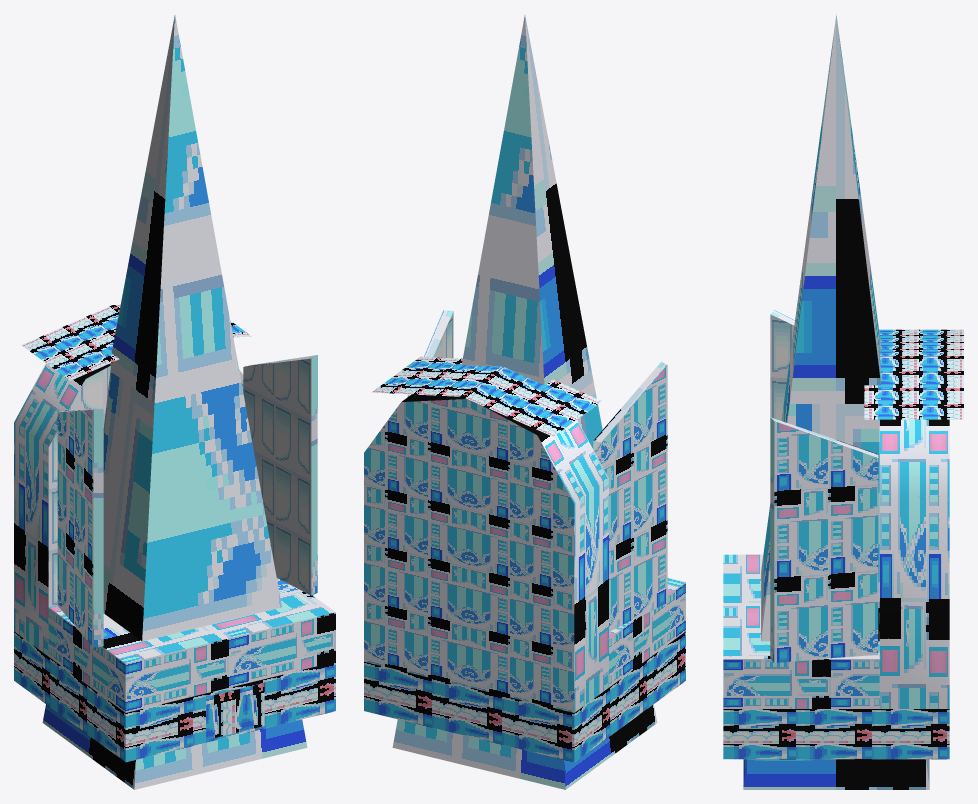
The model's file is 3860kg3_ser41.gltf.
3 views of the same model, side by side, from view 1: azimuth 30°, elevation 25°; view 2: azimuth 150°, elevation 25°; view 3: azimuth 270°, elevation 25° (orthographic).
Parts seen in each view (by area): view 1: 3860kg3_ser41; view 2: 3860kg3_ser41; view 3: 3860kg3_ser41.
Boxes of the visible parts, x1,y1,x2,y2 form: 3860kg3_ser41: [14, 15, 335, 789]; 3860kg3_ser41: [364, 15, 685, 789]; 3860kg3_ser41: [723, 14, 963, 789].
Bounding box in the file's own units: 0.8838 × 2.72 × 0.8384.
3 materials, 3 textured.
